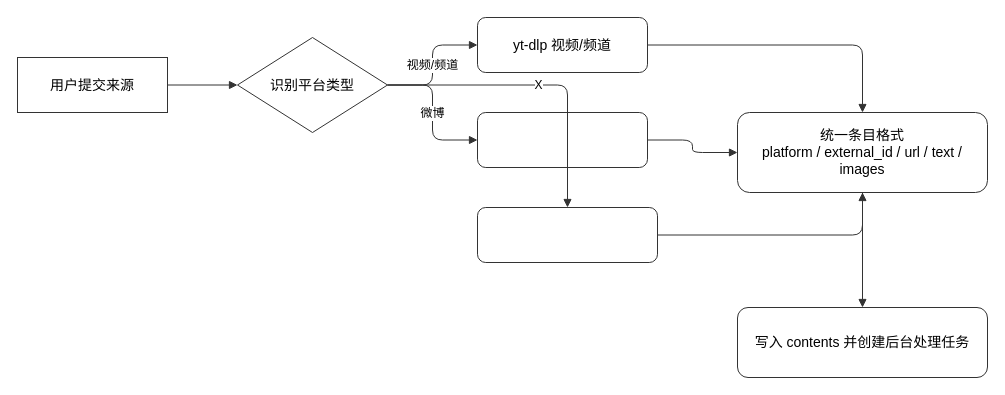
Image size: 1005x395. Some labels were removed from this diagram. The shapes that lost their labels are listed below. From the top down, each one's centre as x and y in pixels, then its label:
(x=562, y=140): 微博用户图文
(x=567, y=234): X/Twitter 图片推文
